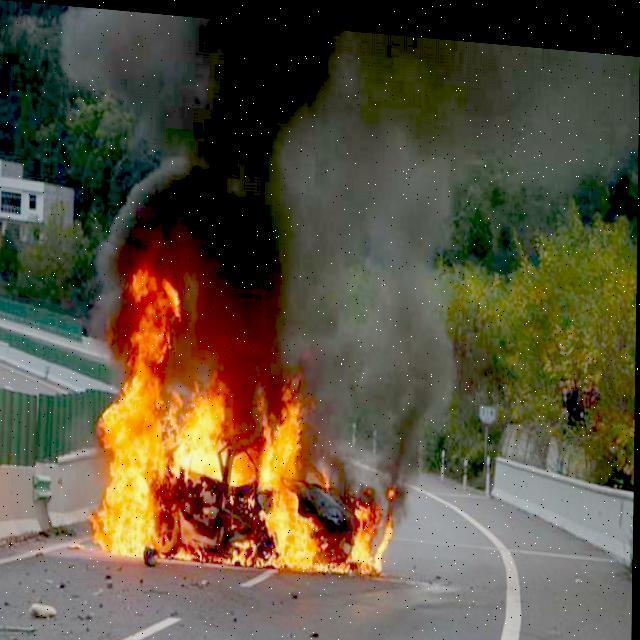Fire: (86, 256, 399, 572)
Smoke: (65, 17, 564, 282), (258, 151, 466, 404)
